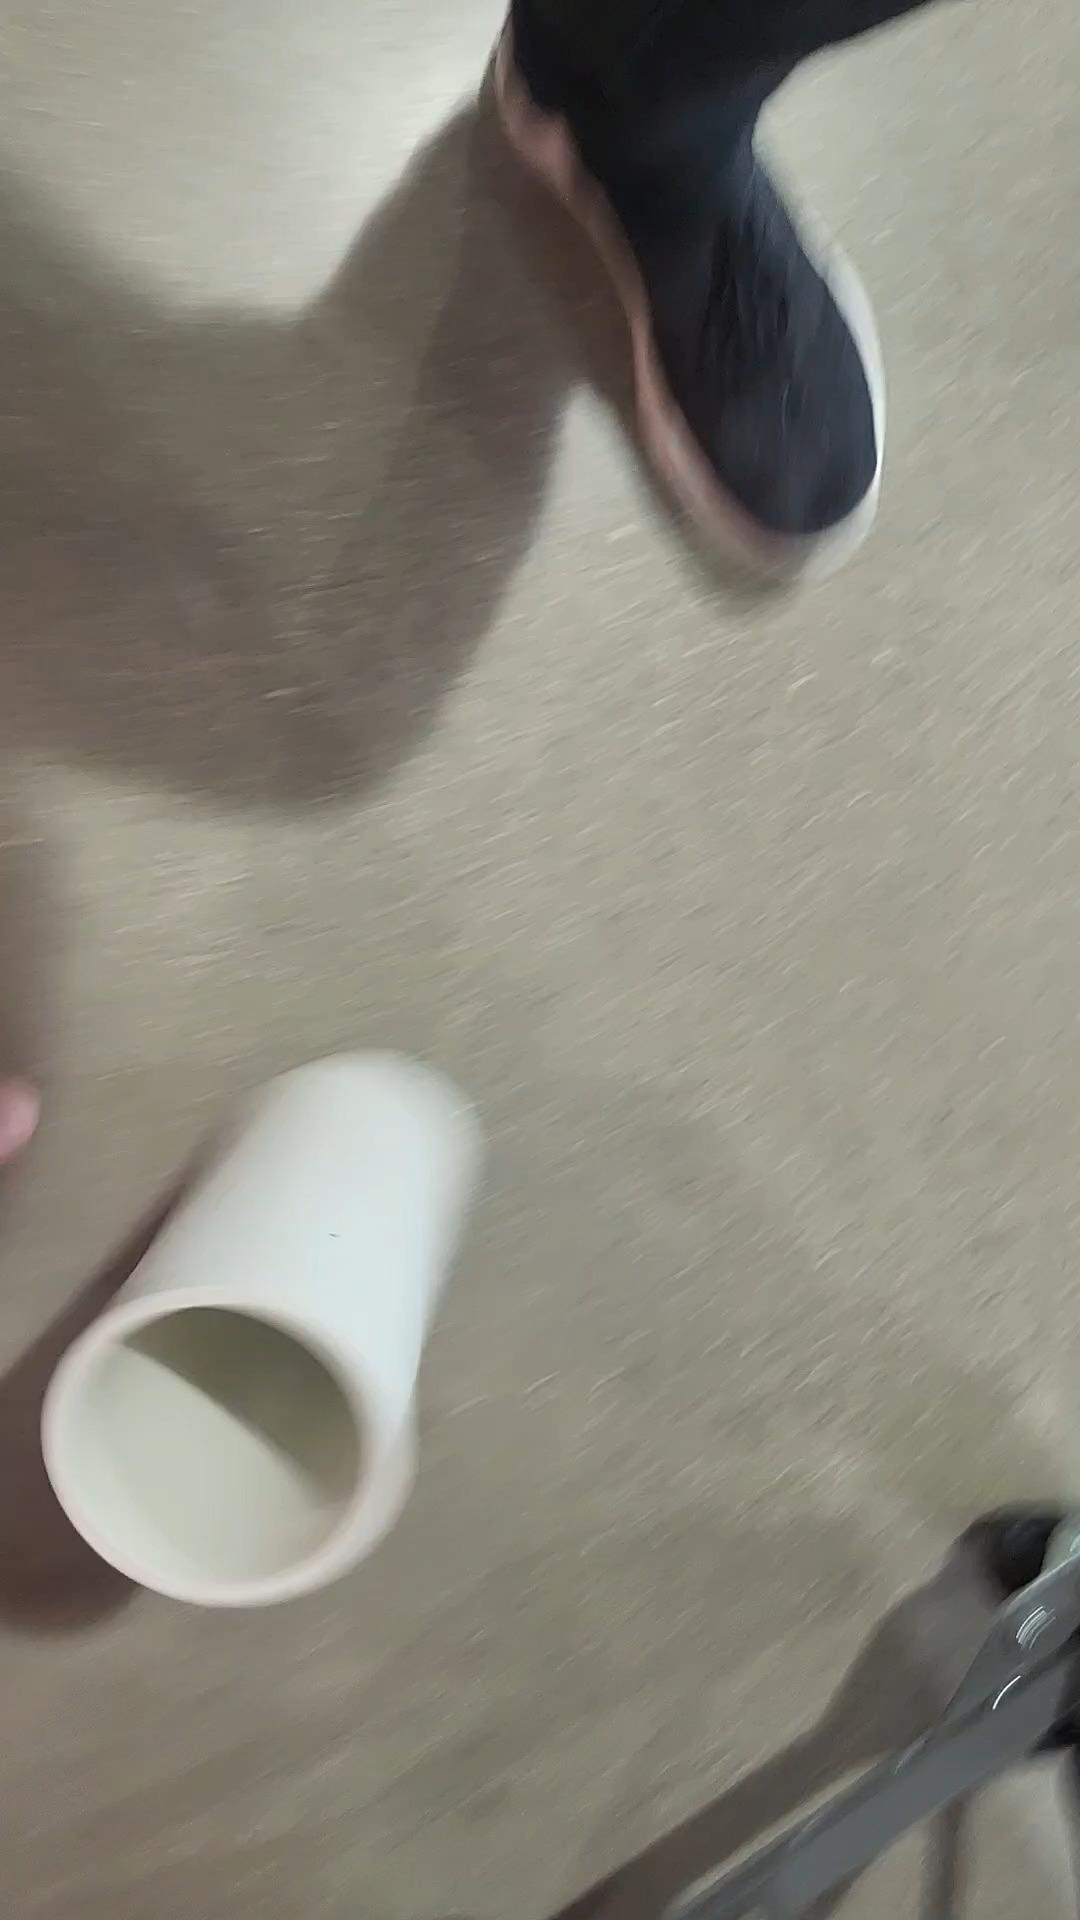coral: (40, 1047, 477, 1602)
